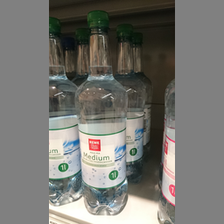water: (75, 9, 129, 216), (49, 16, 82, 207), (114, 24, 145, 178)
